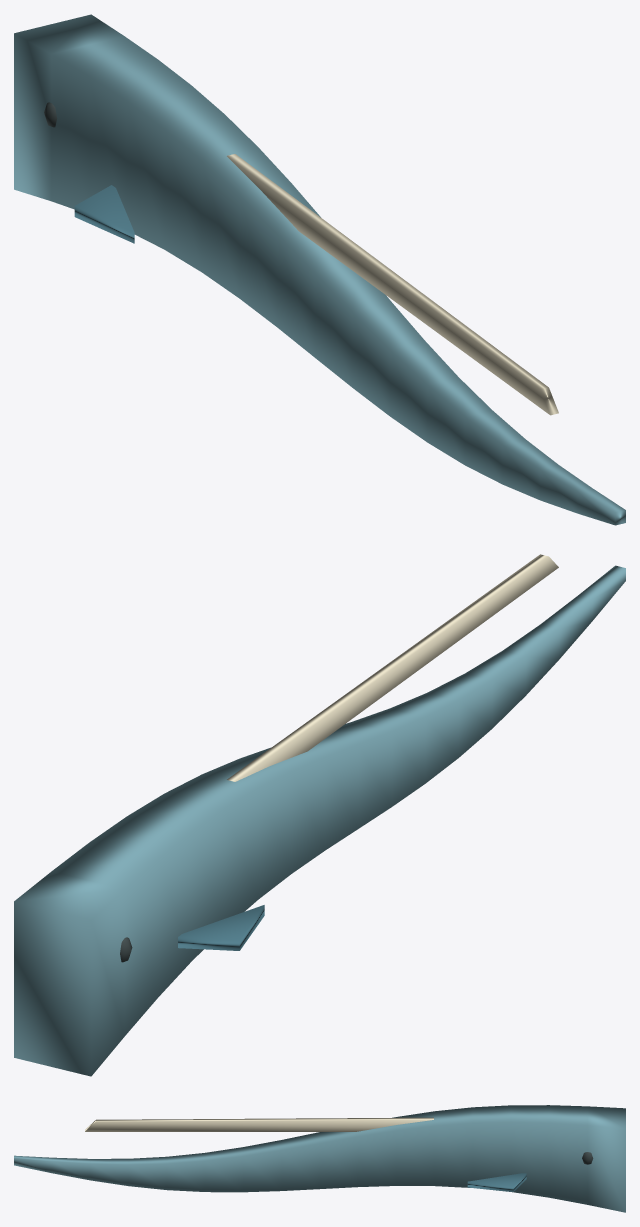
File: fish_cutlassfish.glb
3 views of the same model, one above another, from view 1: azimuth 30°, elevation 25°; view 2: azimuth 150°, elevation 25°; view 3: azimuth 270°, elevation 25° (orthographic). The views are drawn at different scales.
Bounding box in the file's own units: 0.094 × 0.0897 × 0.56.
